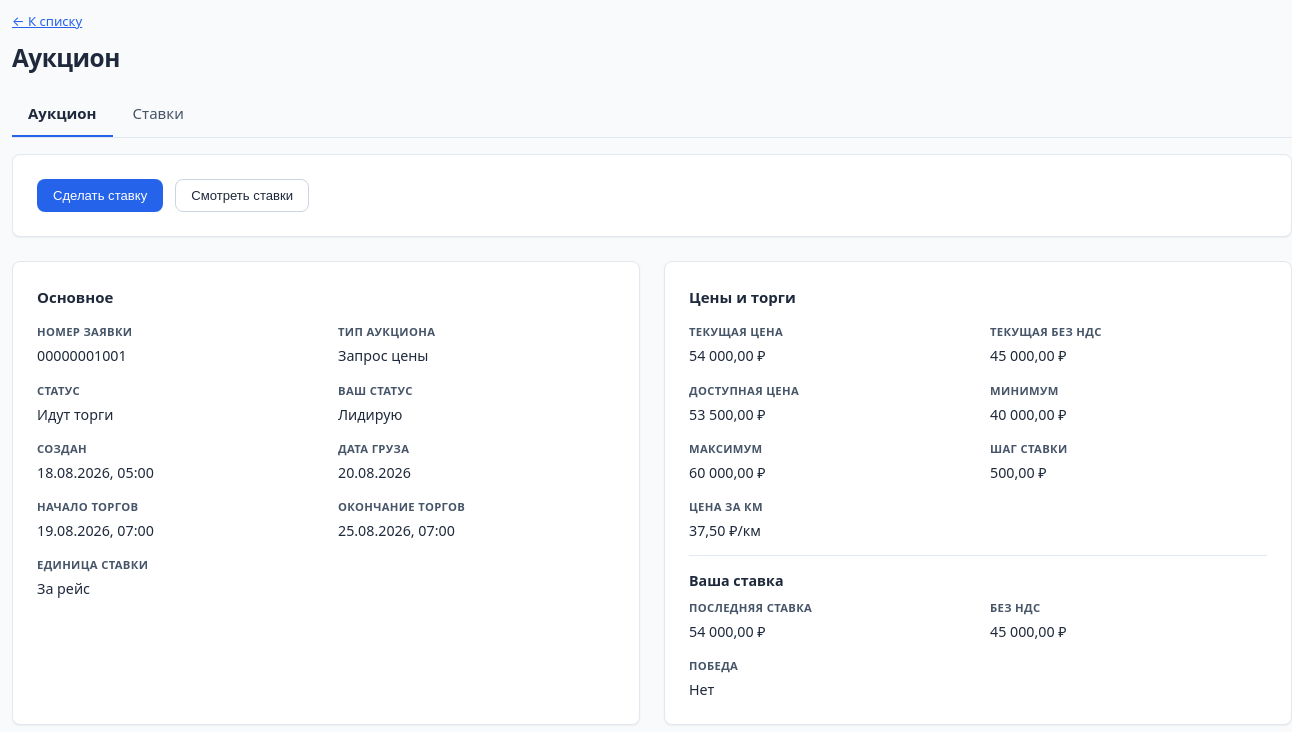
AuctionDetailPage — bets tab › lists bets with carrier, prices, rejected reason and participant count
Click the tab with test id "tab-bets" at (158, 115), box [116,92,200,137]
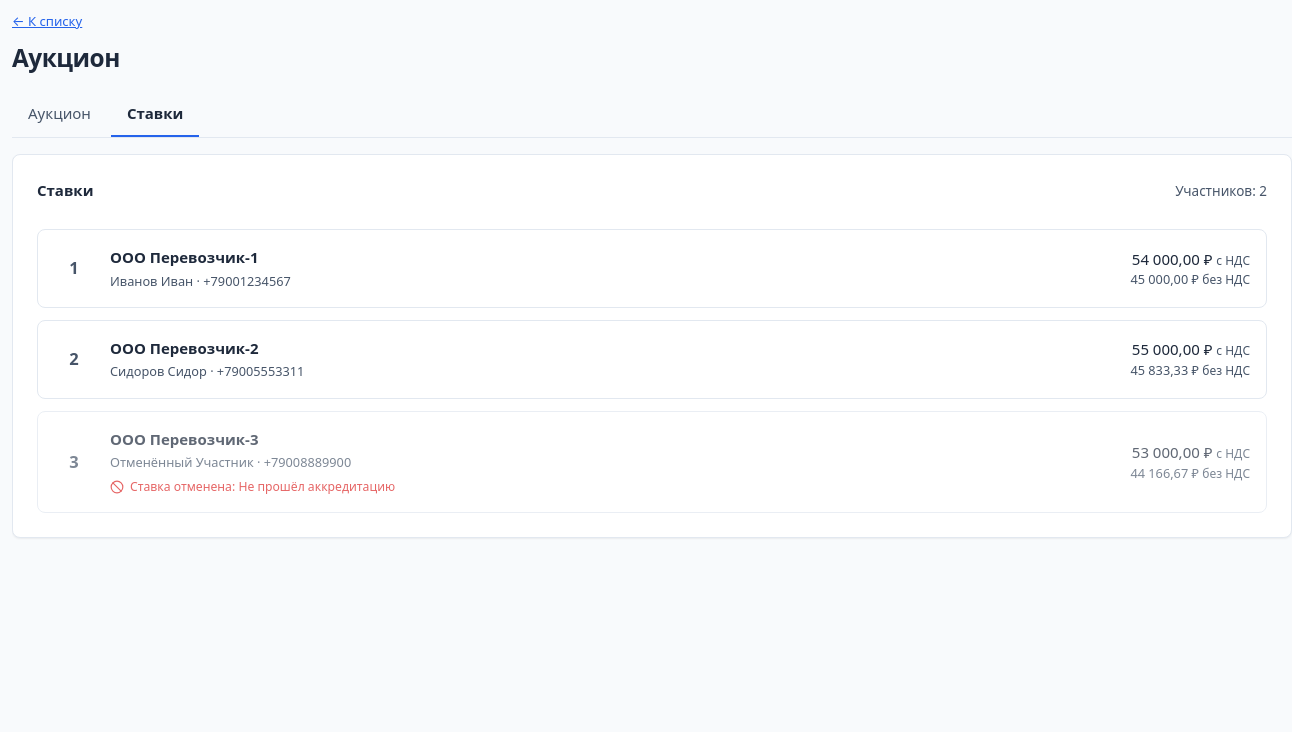
Now the text with test id "bets-participants" reads "Участников: 2", box [1175,181,1267,201]
Now the text "ООО Перевозчик-1" is shown, box [110,246,258,269]
Now the text "Ставка отменена: Не прошёл аккредитацию" is shown, box [110,478,395,495]
